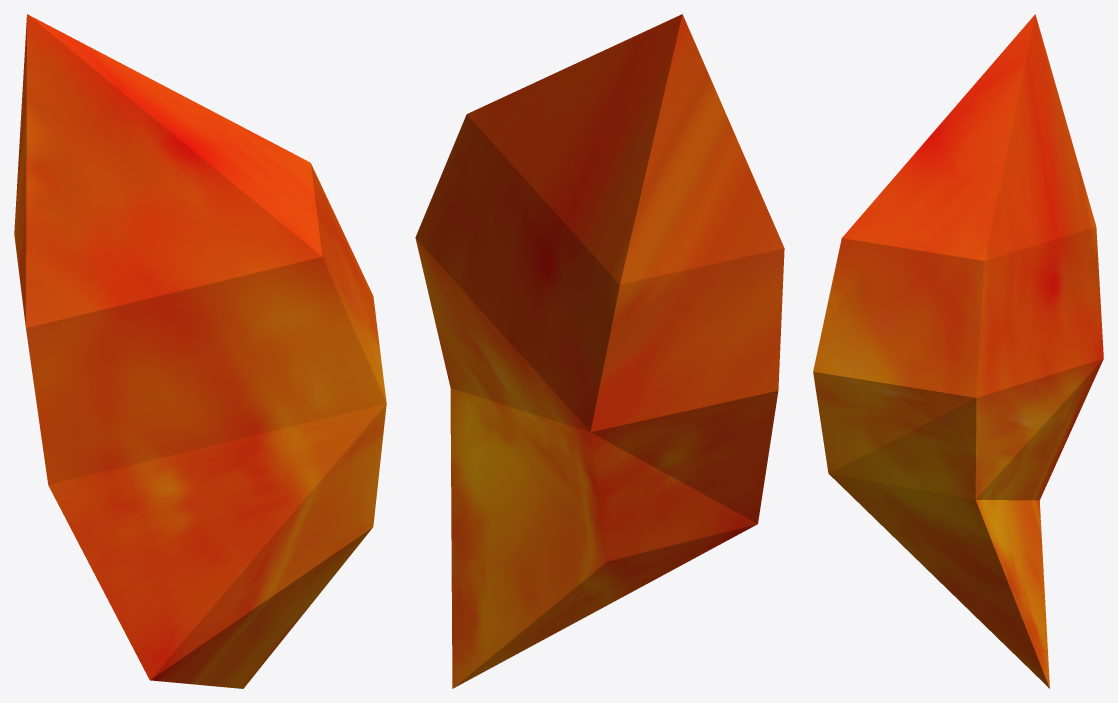
The model's file is Island_2_Leaf_2.gltf.
The picture shows the model from 3 angles, left to right: view 1: azimuth 30°, elevation 25°; view 2: azimuth 150°, elevation 25°; view 3: azimuth 270°, elevation 25°; orthographic projection. The views are drawn at different scales.
Visible parts, largest first — view 1: Island_2_Leaf_2; view 2: Island_2_Leaf_2; view 3: Island_2_Leaf_2.
Boxes of the visible parts, left/top/right/bottom form: Island_2_Leaf_2: left=14, top=14, right=386, bottom=688; Island_2_Leaf_2: left=415, top=14, right=784, bottom=688; Island_2_Leaf_2: left=813, top=14, right=1103, bottom=688.
Size of the model in its own units: 0.5161 by 1 by 0.4504.
Materials: 1 (1 with a texture image).
